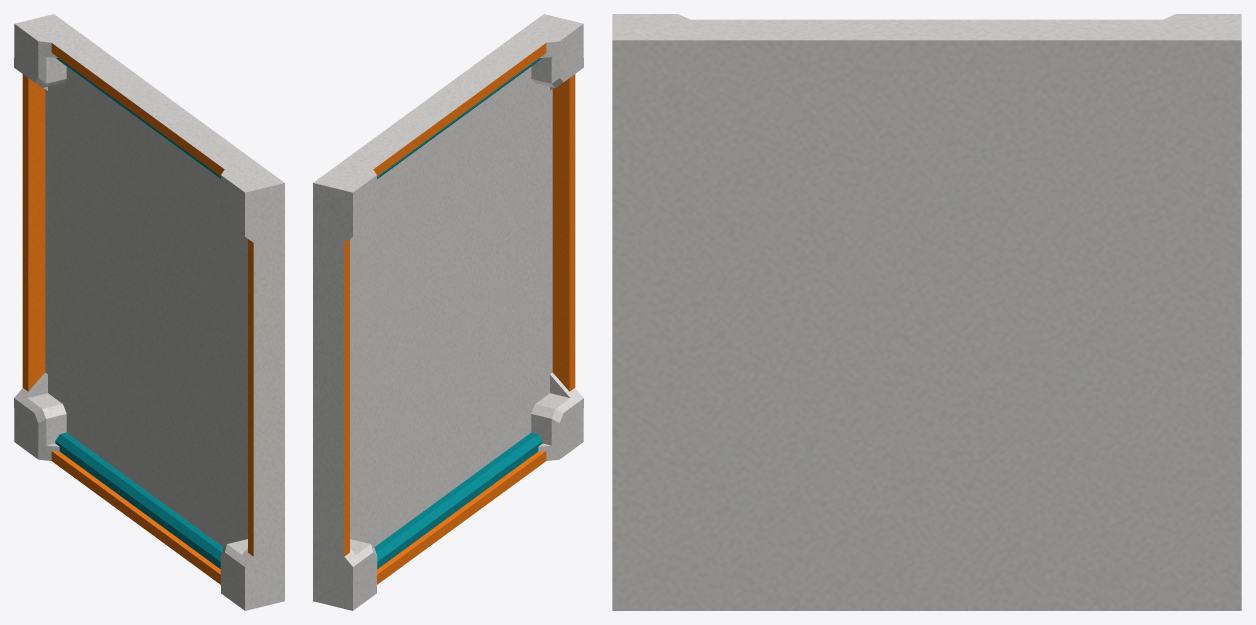
File: Wall_1_Blank.fbx
The picture shows the model from 3 angles, left to right: view 1: azimuth 30°, elevation 25°; view 2: azimuth 150°, elevation 25°; view 3: azimuth 270°, elevation 25°; orthographic projection. The views are drawn at different scales.
Visible parts, largest first — view 1: Wall_1_Blank; view 2: Wall_1_Blank; view 3: Wall_1_Blank.
Part boxes in pixels (x1=…): Wall_1_Blank: x1=14, y1=14, x2=284, y2=610; Wall_1_Blank: x1=313, y1=14, x2=583, y2=610; Wall_1_Blank: x1=612, y1=14, x2=1241, y2=610.
Size of the model in its own units: 20 by 200 by 200.
